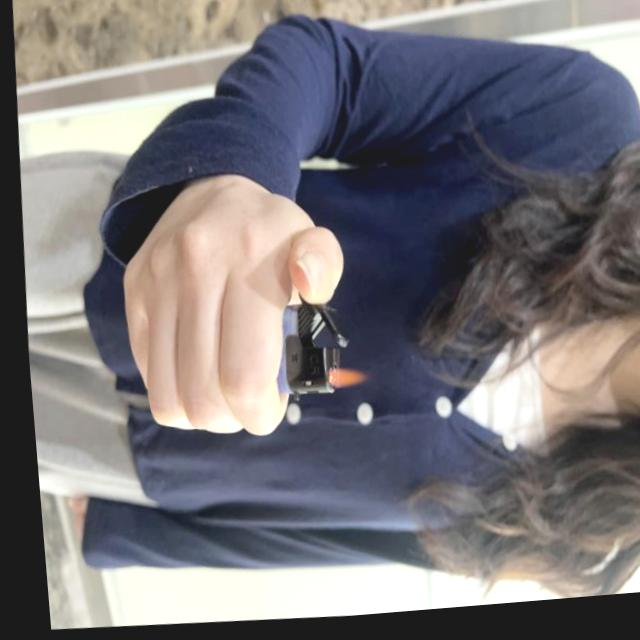Fire: (322, 365, 361, 395)
